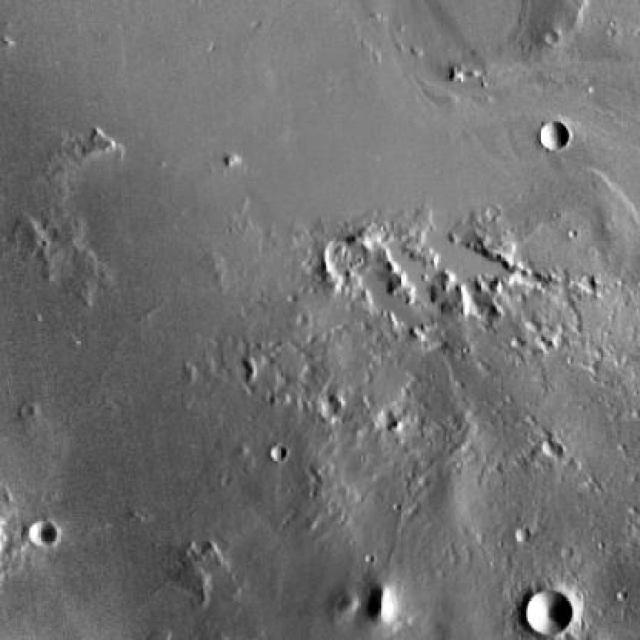crater: (527, 592, 571, 636), (28, 520, 57, 548), (538, 121, 567, 148), (270, 443, 287, 460), (378, 410, 394, 427)
